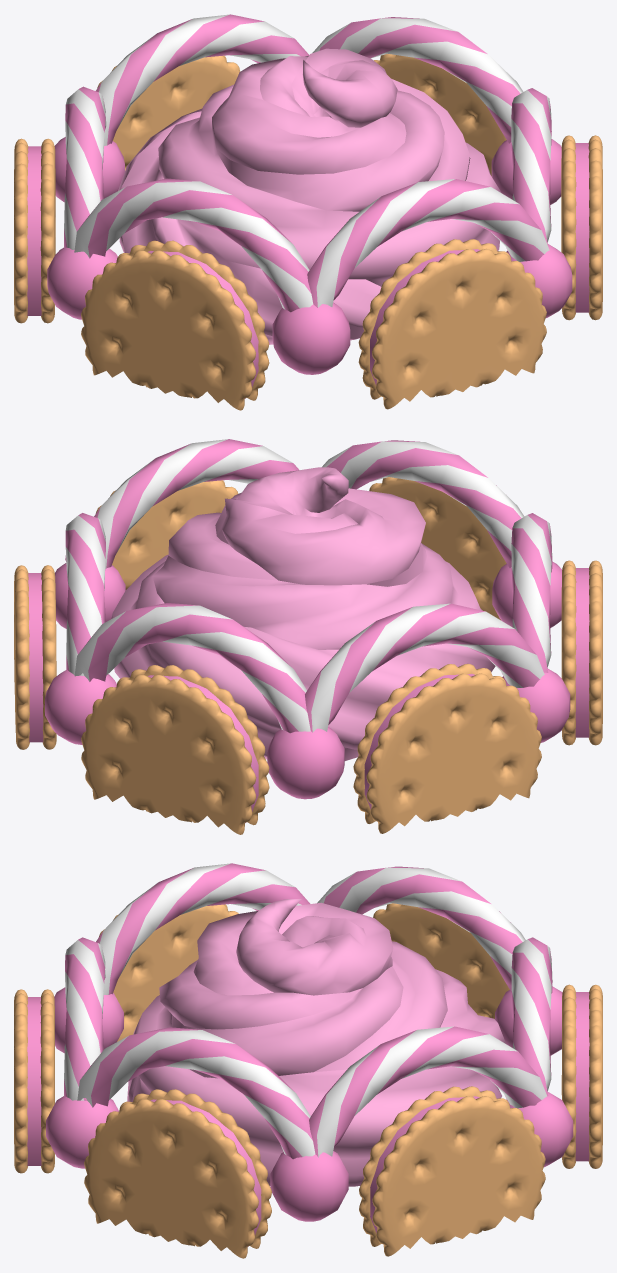
Rendered from Cake_ThemeCandy_B.FBX.
3 views of the same model, one above another, from view 1: azimuth 30°, elevation 25°; view 2: azimuth 150°, elevation 25°; view 3: azimuth 270°, elevation 25° (orthographic).
Visible parts, largest first — view 1: Cake_ThemeCandy_B; view 2: Cake_ThemeCandy_B; view 3: Cake_ThemeCandy_B.
Boxes of the visible parts, <box> form: Cake_ThemeCandy_B: <box>14,14,602,410</box>; Cake_ThemeCandy_B: <box>14,439,602,834</box>; Cake_ThemeCandy_B: <box>14,863,602,1258</box>.
Bounding box in the file's own units: 113130 × 47910 × 110158.
